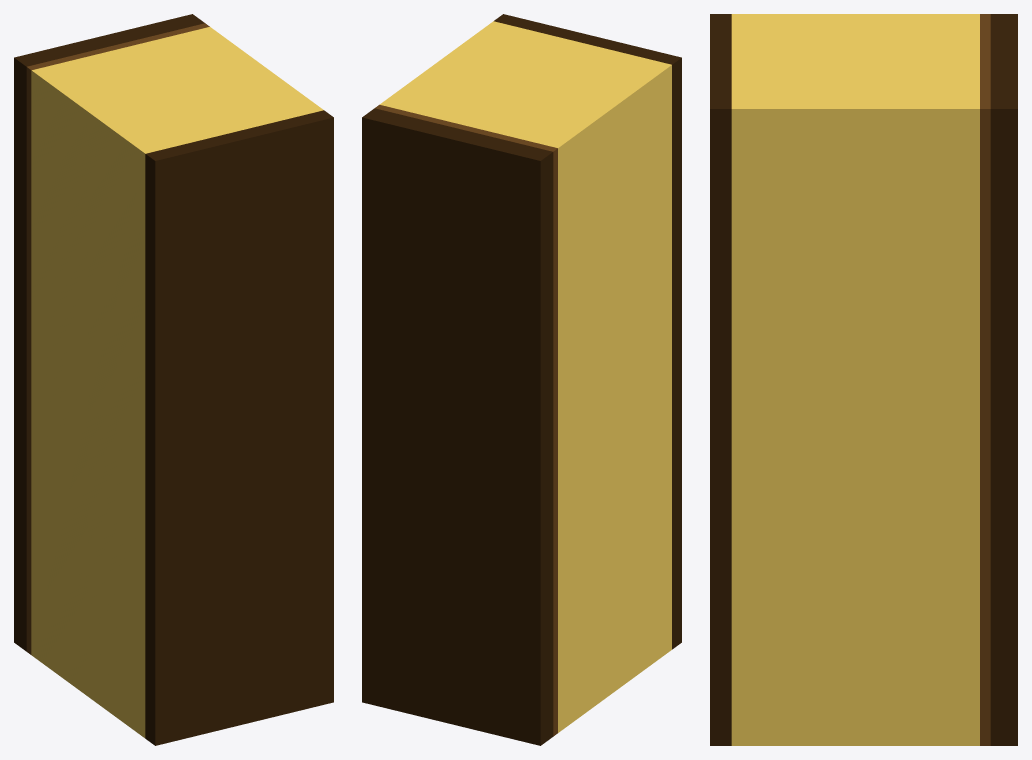
File: kastera.fbx
3 views of the same model, side by side, from view 1: azimuth 30°, elevation 25°; view 2: azimuth 150°, elevation 25°; view 3: azimuth 270°, elevation 25° (orthographic). The views are drawn at different scales.
Visible parts, largest first — view 1: Cube; view 2: Cube; view 3: Cube.
Boxes of the visible parts, x1=… form: Cube: x1=14, y1=14, x2=333, y2=745; Cube: x1=362, y1=14, x2=681, y2=745; Cube: x1=710, y1=14, x2=1017, y2=745.
Size of the model in its own units: 141 by 442 by 193.
